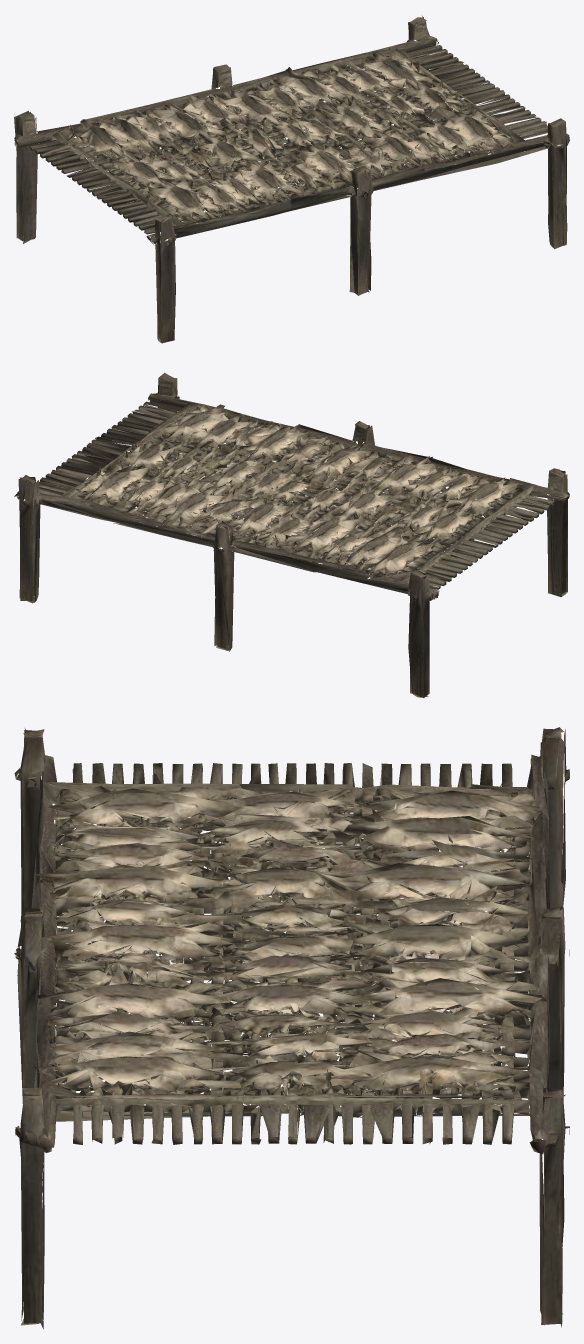
The model's file is fish-flakes-rack.glb.
3 views of the same model, one above another, from view 1: azimuth 30°, elevation 25°; view 2: azimuth 150°, elevation 25°; view 3: azimuth 270°, elevation 25° (orthographic). The views are drawn at different scales.
Parts seen in each view (by area): view 1: Mesh_0; view 2: Mesh_0; view 3: Mesh_0.
Boxes of the visible parts, left/top/right/bottom form: Mesh_0: left=14, top=16, right=569, bottom=343; Mesh_0: left=14, top=372, right=569, bottom=697; Mesh_0: left=14, top=727, right=569, bottom=1329.
Bounding box in the file's own units: 1.92 × 0.546 × 1.16.
Materials: 1 (1 with a texture image).
